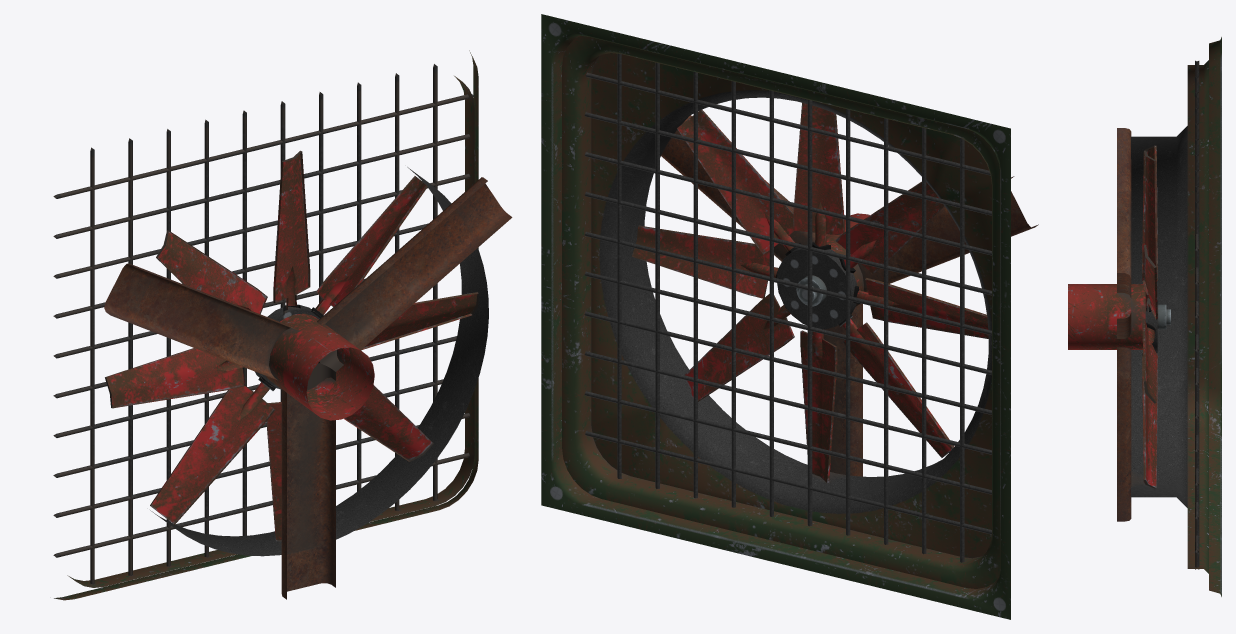
The picture shows the model from 3 angles, left to right: view 1: azimuth 30°, elevation 25°; view 2: azimuth 150°, elevation 25°; view 3: azimuth 270°, elevation 25°; orthographic projection. The views are drawn at different scales.
Parts seen in each view (by area): view 1: Base, Fan1_1; view 2: Base, Fan1_1; view 3: Base, Fan1_1.
Part boxes in pixels (x1,y1,x2,y2): Base: (53, 50, 512, 600); Fan1_1: (105, 150, 478, 541); Base: (541, 14, 1038, 619); Fan1_1: (632, 103, 988, 483); Base: (1068, 37, 1221, 596); Fan1_1: (1142, 145, 1170, 488).
Bounding box in the file's own units: 19.22 × 19.22 × 6.49.
Materials: 1 (1 with a texture image).
